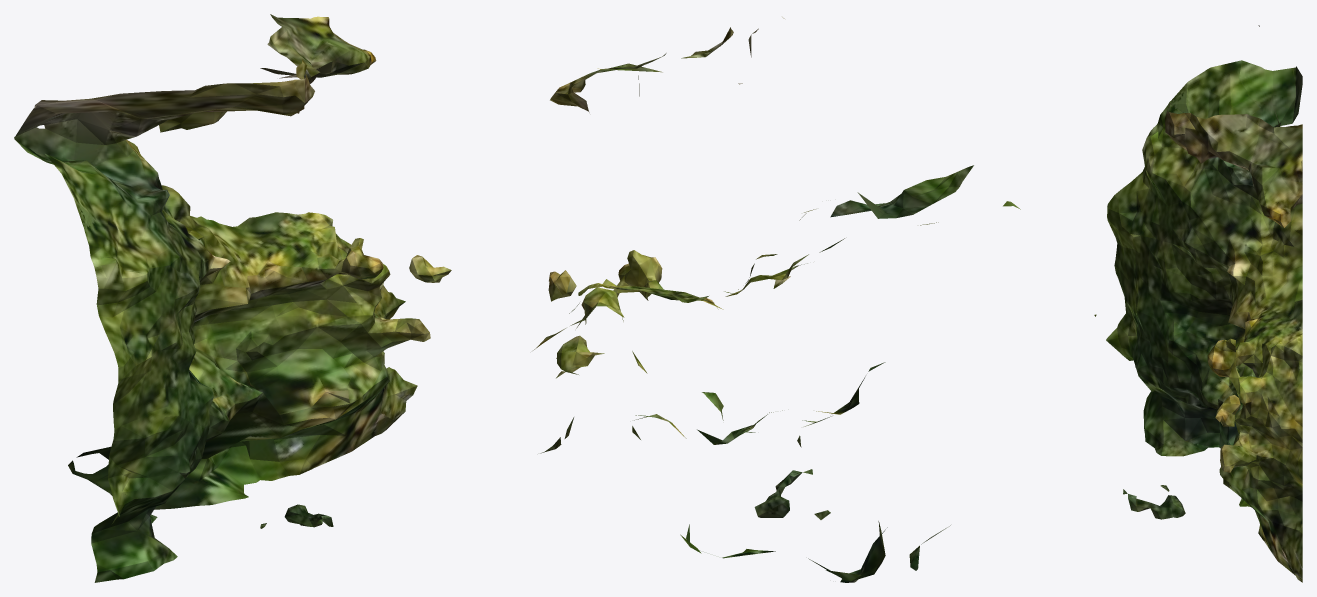
The picture shows the model from 3 angles, left to right: view 1: azimuth 30°, elevation 25°; view 2: azimuth 150°, elevation 25°; view 3: azimuth 270°, elevation 25°; orthographic projection. The views are drawn at different scales.
Bounding box in the file's own units: 3.21 × 3.35 × 1.57.
Materials: 3 (3 with a texture image).
